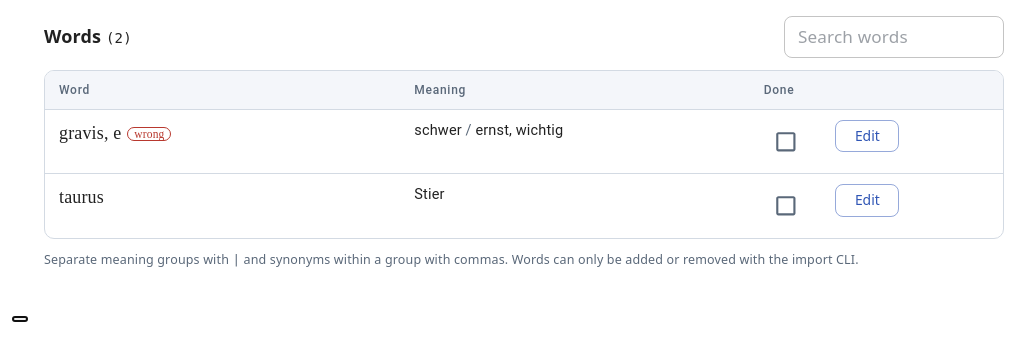
editing › does not send meanings that cannot be stored: schwer | | ernst
Click the button with aria-label "Edit gravis, e" at (867, 136), box [835, 120, 899, 152]
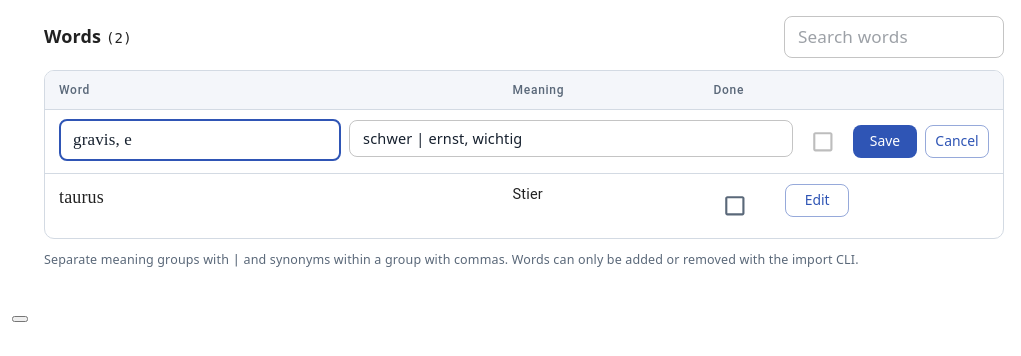
Replace the text in the field named "Meaning" with "schwer | | ernst" at (571, 138), box [349, 120, 793, 157]
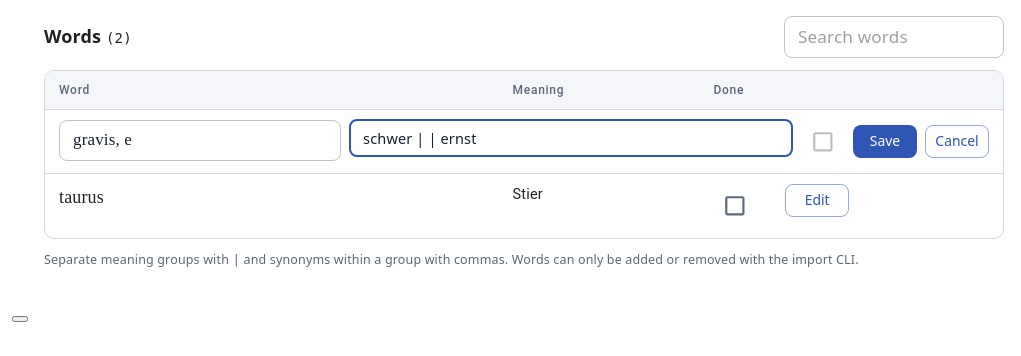
Click the button "Save" at (885, 142), box [853, 125, 917, 158]
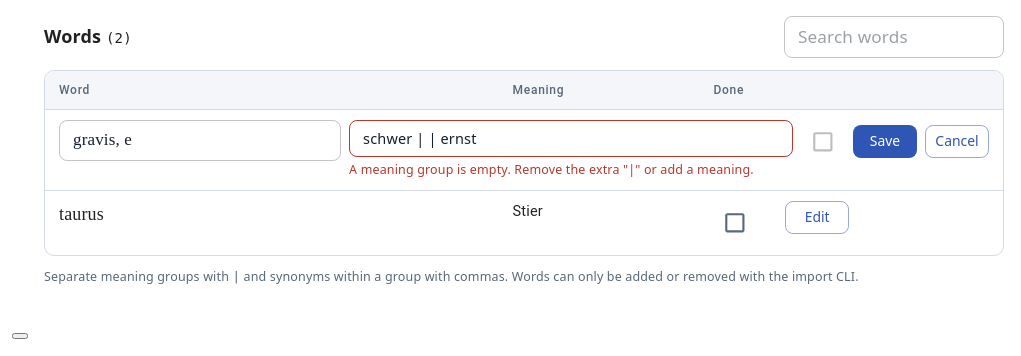
expect the message shows "A meaning group is empty": met, box [349, 162, 754, 178]
